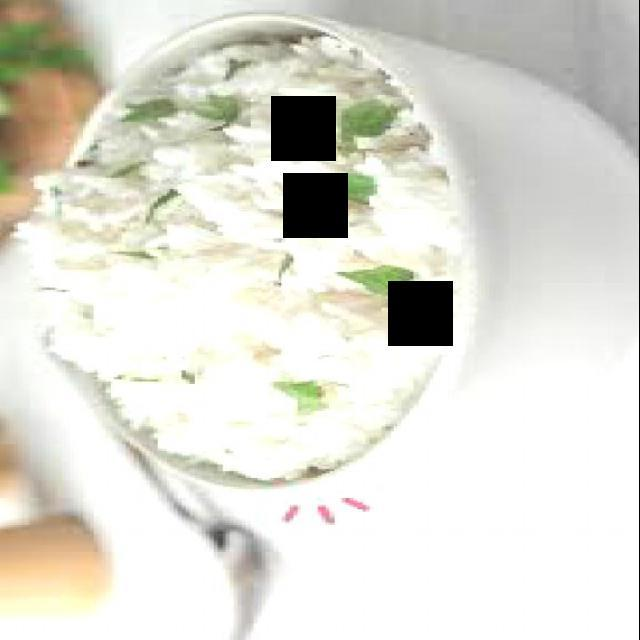rice: (12, 34, 462, 480)
